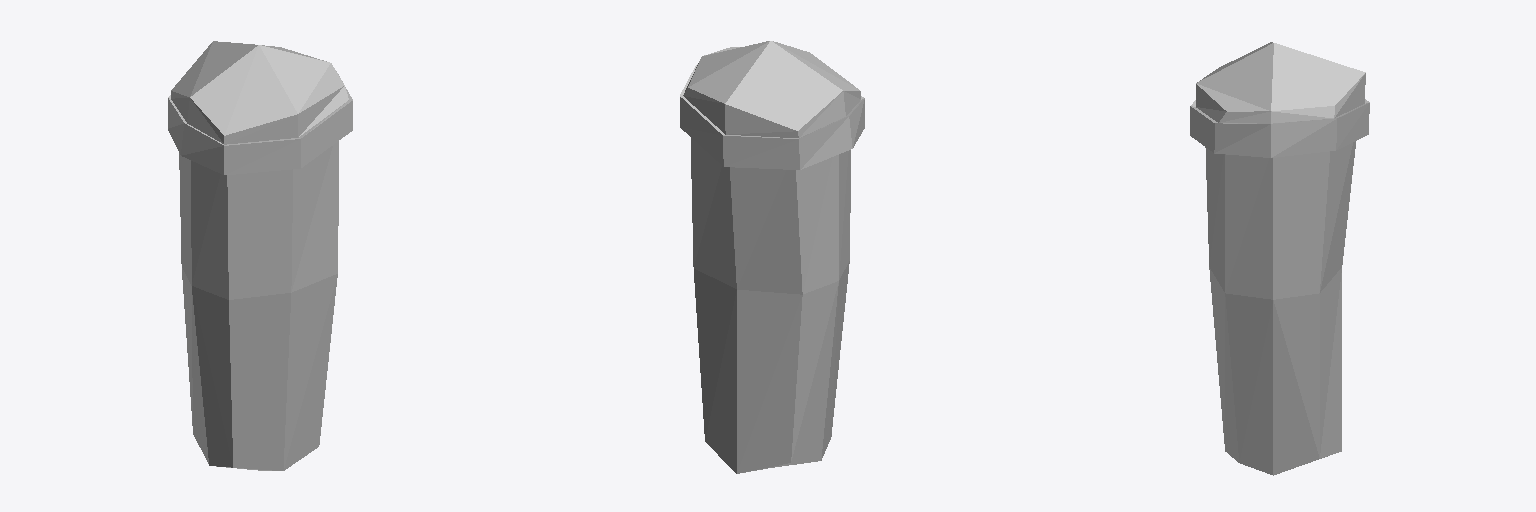
File: legMomoRight.obj
The picture shows the model from 3 angles: view 1: azimuth 30°, elevation 25°; view 2: azimuth 150°, elevation 25°; view 3: azimuth 270°, elevation 25°; orthographic projection.
Parts seen in each view (by area): view 1: pasted__pasted__pCube7 pasted__group13 group19 polySurface13, polySurface14 pasted__pasted__pCube7 pasted__group13 group19; view 2: pasted__pasted__pCube7 pasted__group13 group19 polySurface13, polySurface14 pasted__pasted__pCube7 pasted__group13 group19; view 3: pasted__pasted__pCube7 pasted__group13 group19 polySurface13, polySurface14 pasted__pasted__pCube7 pasted__group13 group19.
Boxes of the visible parts, <box> form: pasted__pasted__pCube7 pasted__group13 group19 polySurface13: <box>179,141,338,470</box>; polySurface14 pasted__pasted__pCube7 pasted__group13 group19: <box>168,41,352,174</box>; pasted__pasted__pCube7 pasted__group13 group19 polySurface13: <box>691,138,850,473</box>; polySurface14 pasted__pasted__pCube7 pasted__group13 group19: <box>680,41,864,169</box>; pasted__pasted__pCube7 pasted__group13 group19 polySurface13: <box>1205,141,1355,475</box>; polySurface14 pasted__pasted__pCube7 pasted__group13 group19: <box>1190,42,1369,157</box>.
Size of the model in its own units: 5.49 by 13.99 by 5.35.